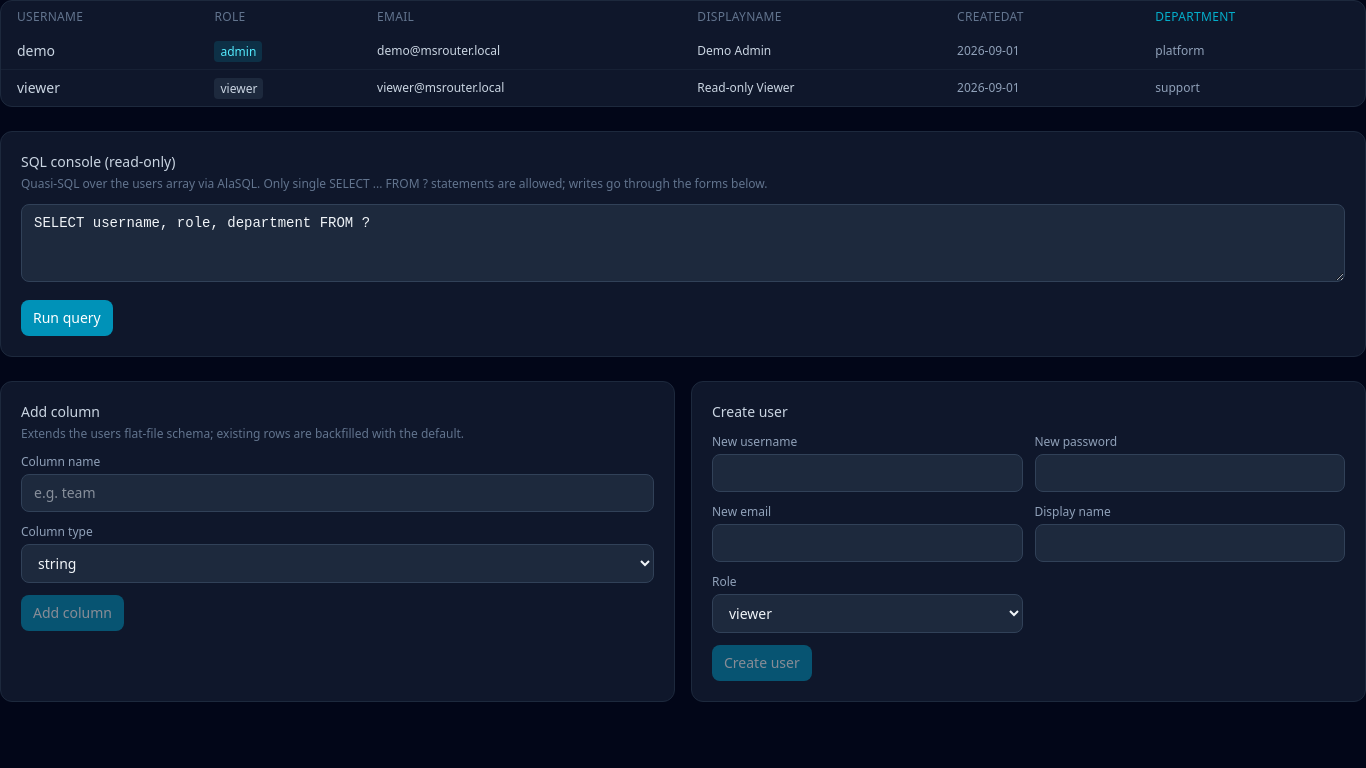
Test: SQL console › surfaces the server error when a write statement is rejected
This screenshot has width=1366, height=768.
Check: the text "demo" is shown, box [1,33,198,70]
Click the button "Run query" at {"x": 67, "y": 318}, box [21,300,113,336]
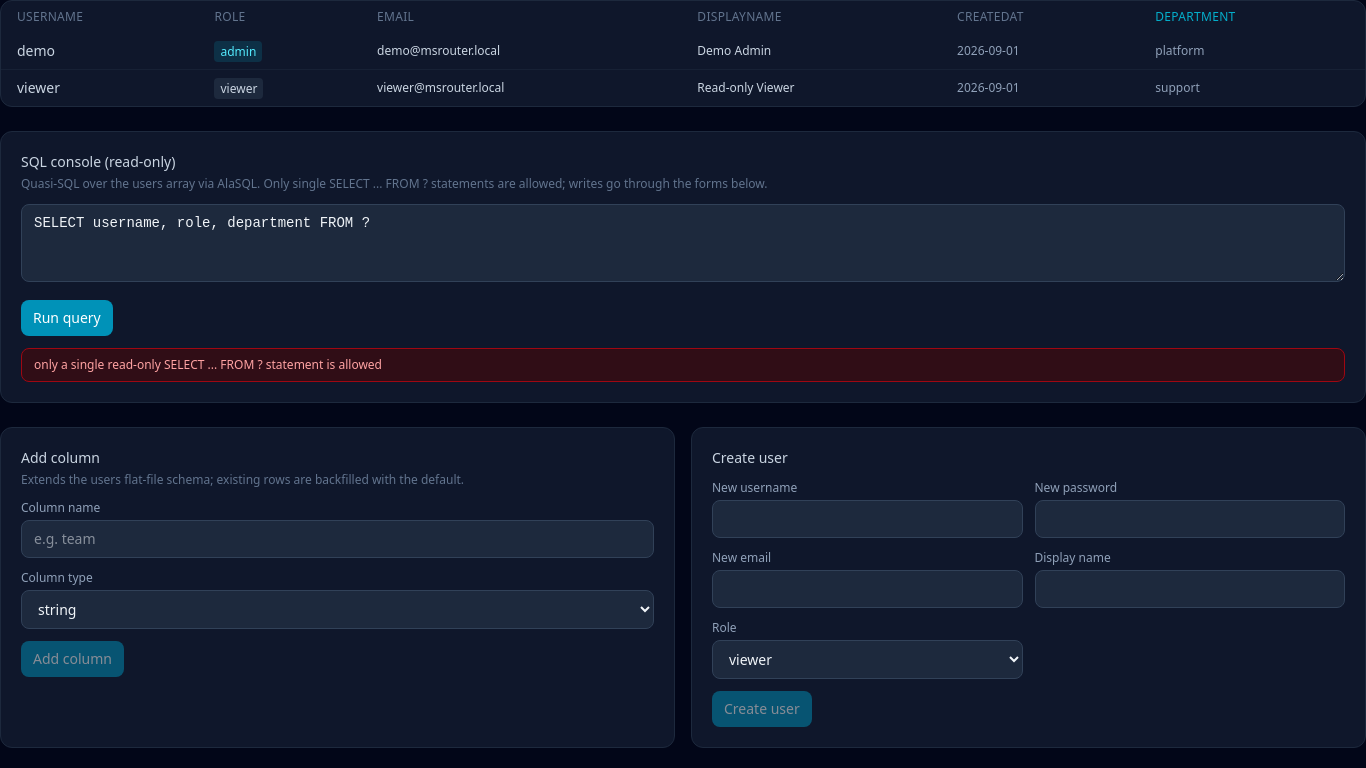
Check: the text "only a single read-only SELECT ... FROM ? statement is allowed" is shown, box [21,348,1345,382]
